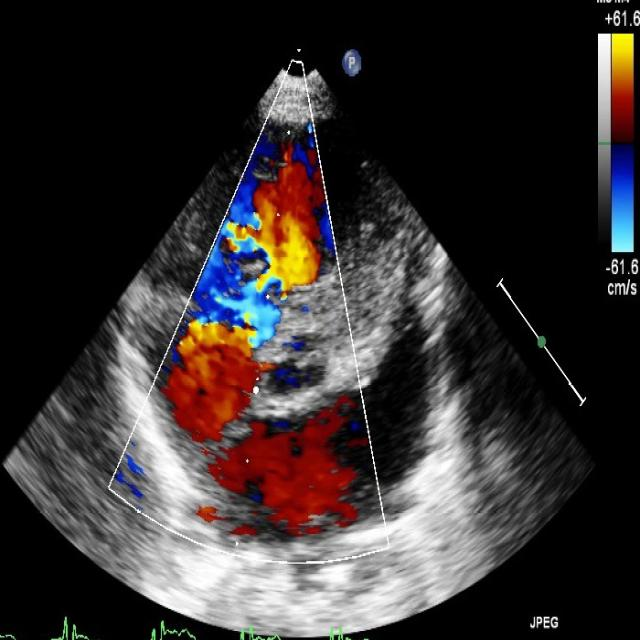VSDType2: (225, 212, 331, 396)
